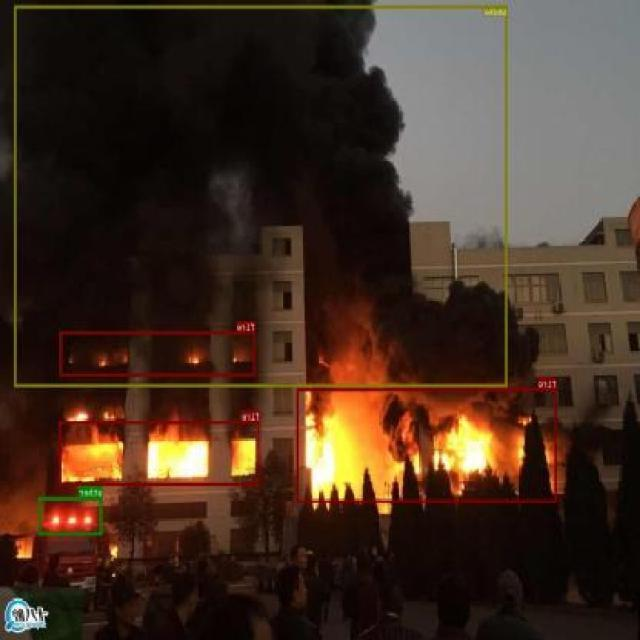Fire: (297, 388, 557, 502), (59, 420, 261, 486), (60, 330, 256, 376)
Smoke: (14, 4, 508, 387)
